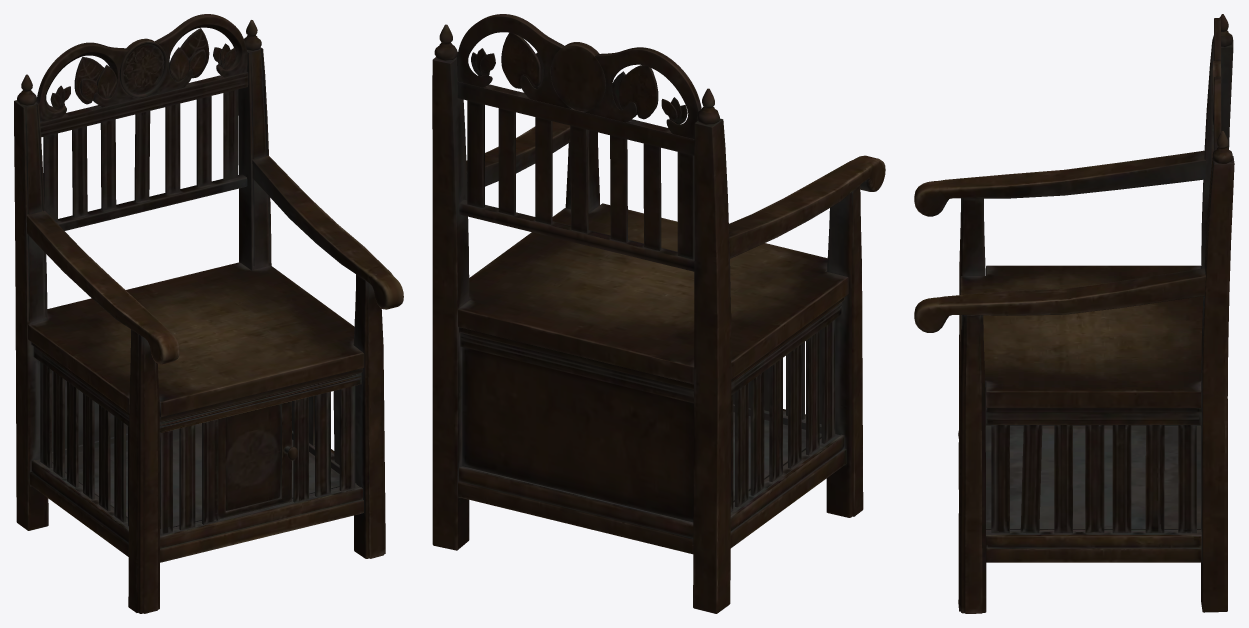
The model's file is gallinera_chair.glb.
The picture shows the model from 3 angles, left to right: view 1: azimuth 30°, elevation 25°; view 2: azimuth 150°, elevation 25°; view 3: azimuth 270°, elevation 25°; orthographic projection. The views are drawn at different scales.
Parts seen in each view (by area): view 1: gallinera_chair; view 2: gallinera_chair; view 3: gallinera_chair.
Part boxes in pixels (x1,y1,x2,y2): gallinera_chair: (14, 14, 403, 613); gallinera_chair: (432, 14, 885, 613); gallinera_chair: (914, 14, 1234, 613).
Size of the model in its own units: 0.5808 by 1.03 by 0.6039.
Materials: 1 (1 with a texture image).
